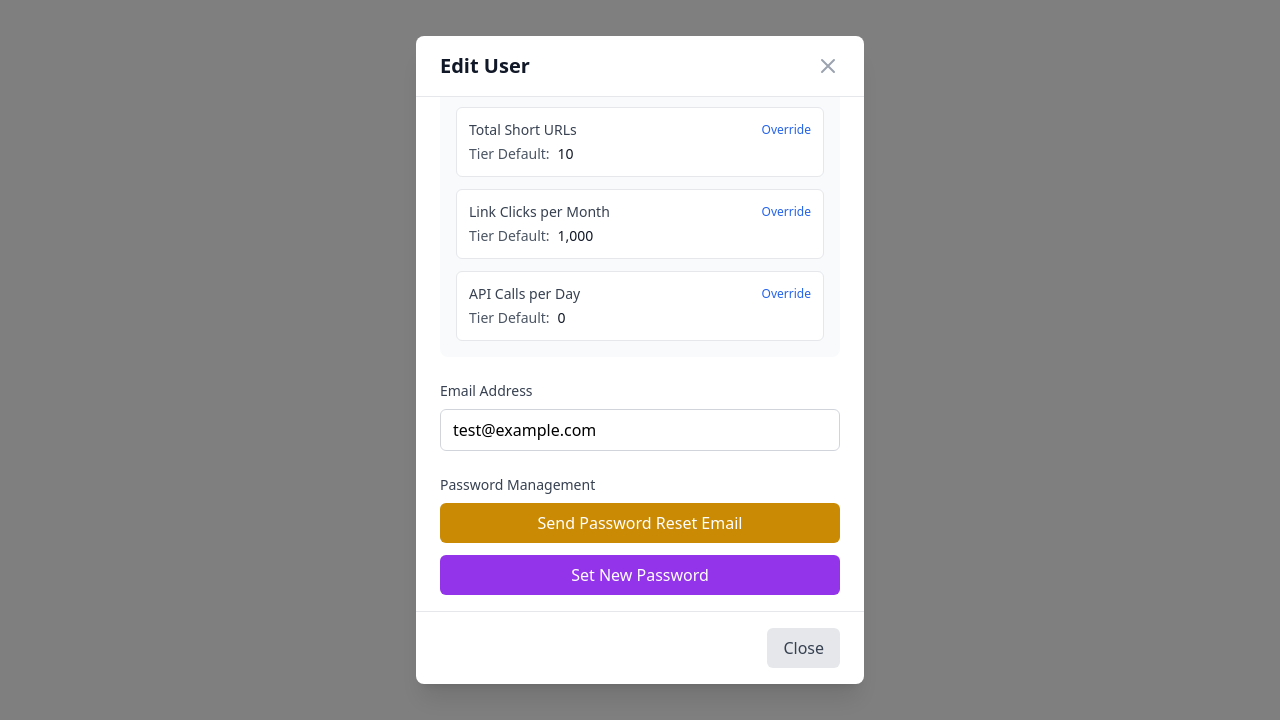
Test: UserEditModal › Email validation rejects invalid formats › should clear error when user starts typing valid email
The image size is (1280, 720).
(page scrolled)
Step 1. Replace the text in the field labelled "Email Address" with "invalid" → point(640, 430), box [440,409,840,451]
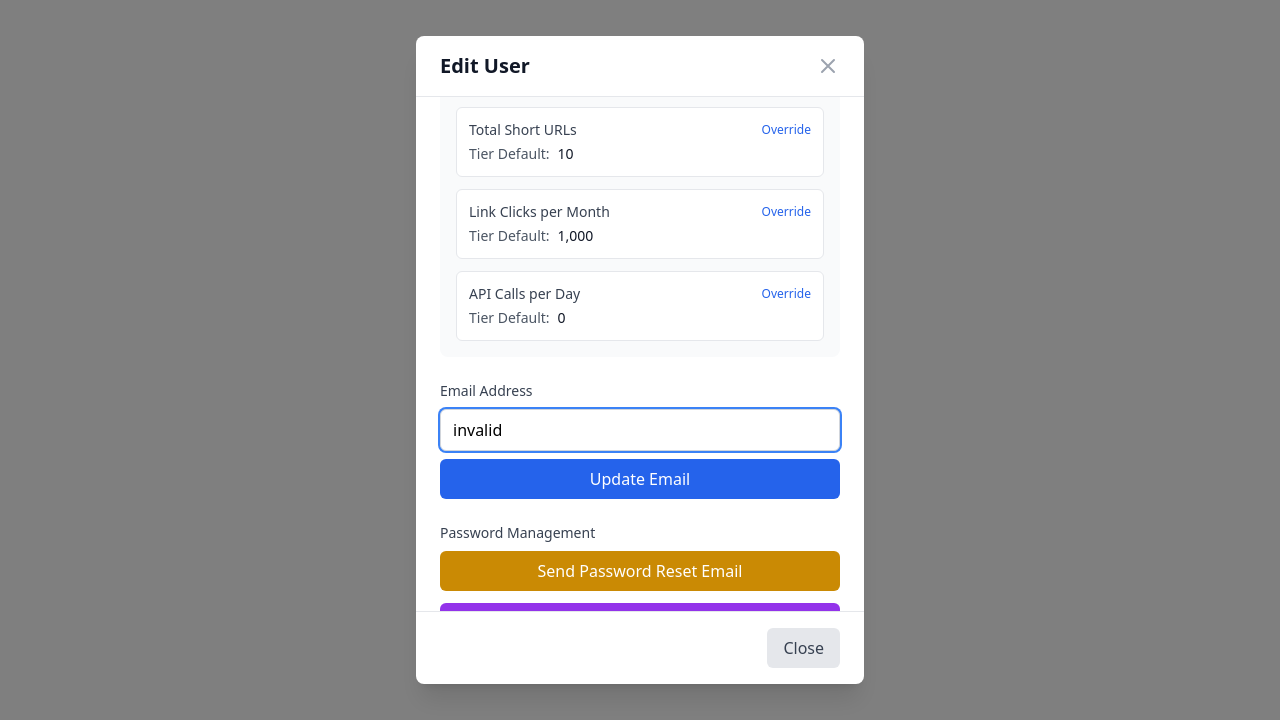
Step 2. Click the button "Update Email" → point(640, 479), box [440,459,840,499]
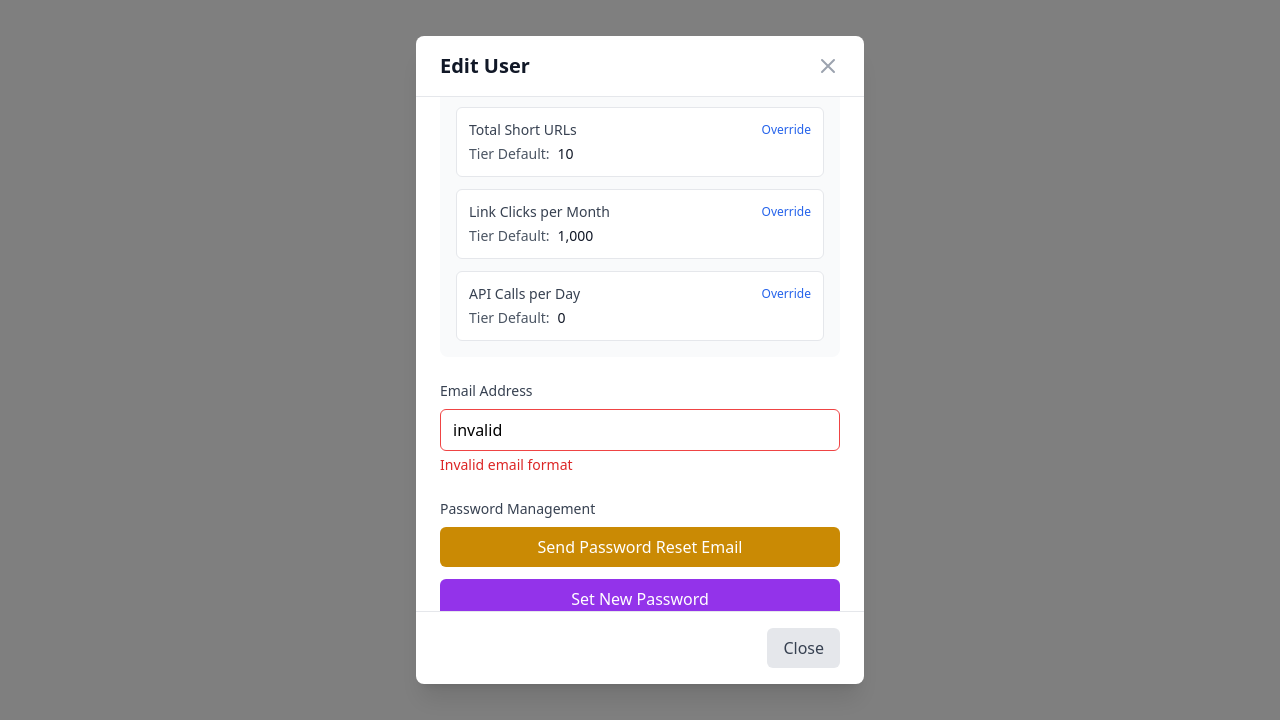
Expected: the text "Invalid email format" is shown, [440,455,573,474]
Step 3. Type "@example.com" into the field labelled "Email Address" → point(640, 430), box [440,409,840,451]
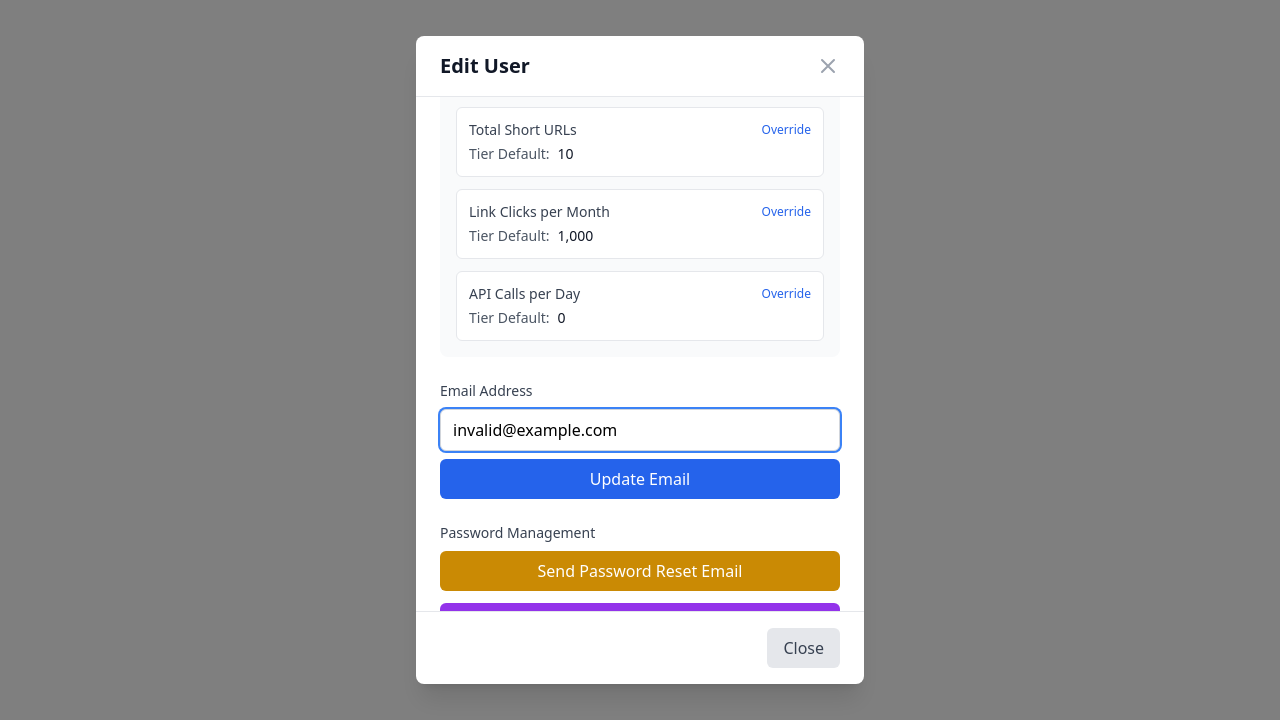
Expected: the text "Invalid email format" is gone
